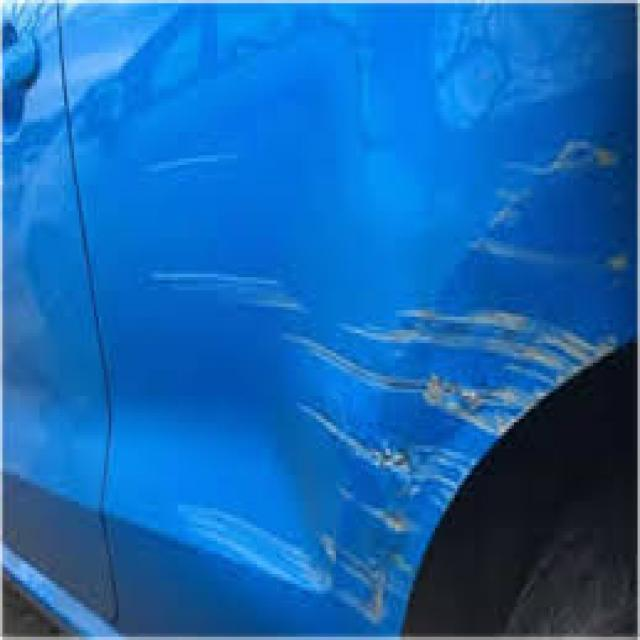dent-or-scratch: (150, 262, 618, 637)
